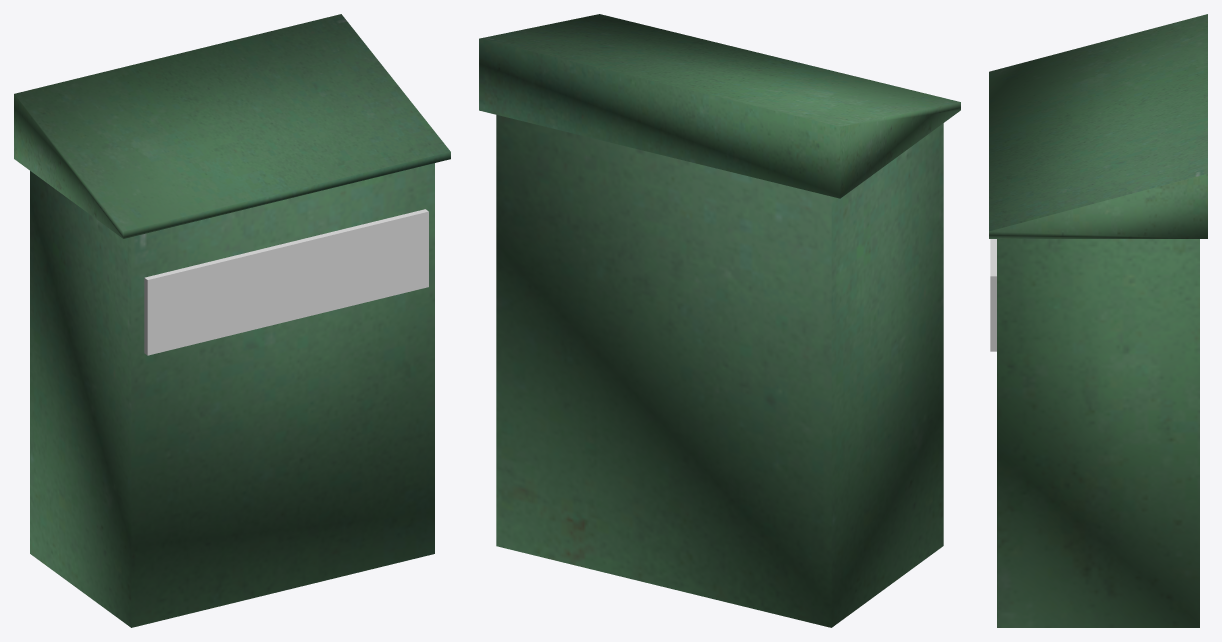
Rendered from PostKasse.glb.
The picture shows the model from 3 angles, left to right: view 1: azimuth 30°, elevation 25°; view 2: azimuth 150°, elevation 25°; view 3: azimuth 270°, elevation 25°; orthographic projection. The views are drawn at different scales.
Parts seen in each view (by area): view 1: PostKasse, PostkasseLokk, NavneSkilt; view 2: PostKasse, PostkasseLokk; view 3: PostKasse, PostkasseLokk, NavneSkilt.
Part boxes in pixels (x1=…): PostKasse: x1=30, y1=163, x2=434, y2=627; PostkasseLokk: x1=14, y1=14, x2=450, y2=238; NavneSkilt: x1=144, y1=209, x2=428, y2=355; PostKasse: x1=496, y1=115, x2=943, y2=627; PostkasseLokk: x1=479, y1=14, x2=960, y2=198; PostKasse: x1=997, y1=239, x2=1199, y2=627; PostkasseLokk: x1=989, y1=14, x2=1207, y2=238; NavneSkilt: x1=990, y1=239, x2=996, y2=351.
Size of the model in its own units: 2.94 by 3.95 by 1.7.
Materials: 3 (2 with a texture image).
